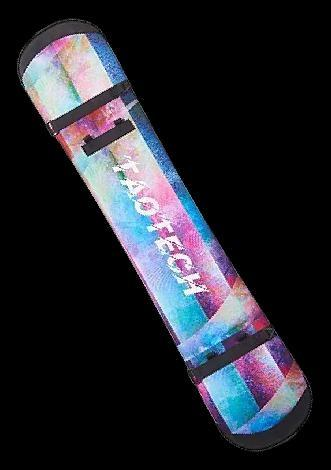Snowboard: (16, 17, 313, 452)
